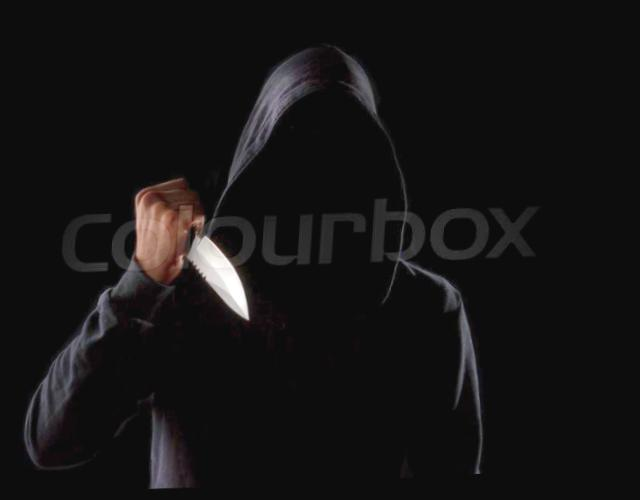knife: (130, 172, 265, 335)
